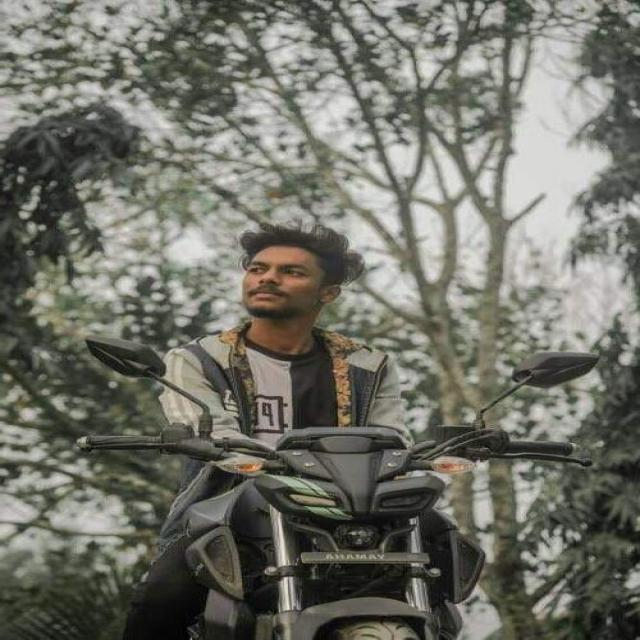No_Helmet: (196, 224, 402, 349)
